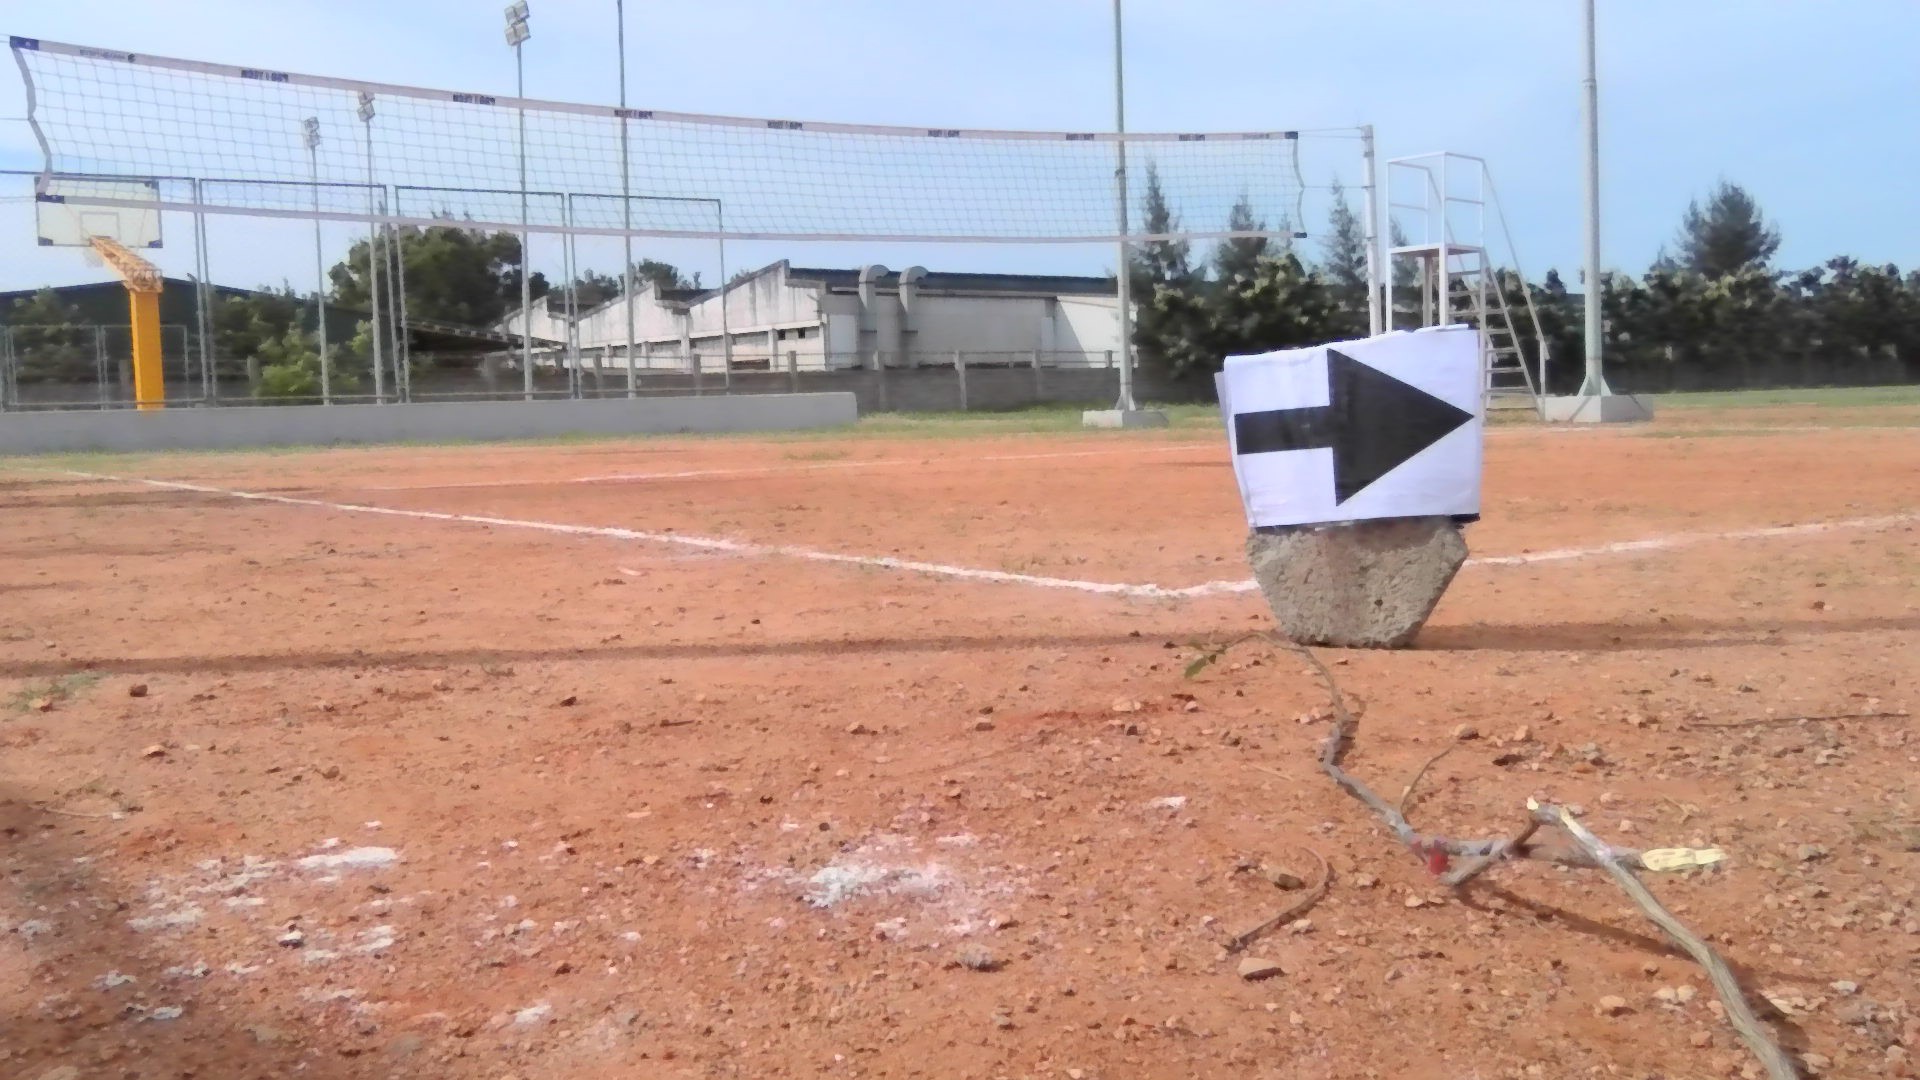leftDir: (1226, 324, 1489, 524)
